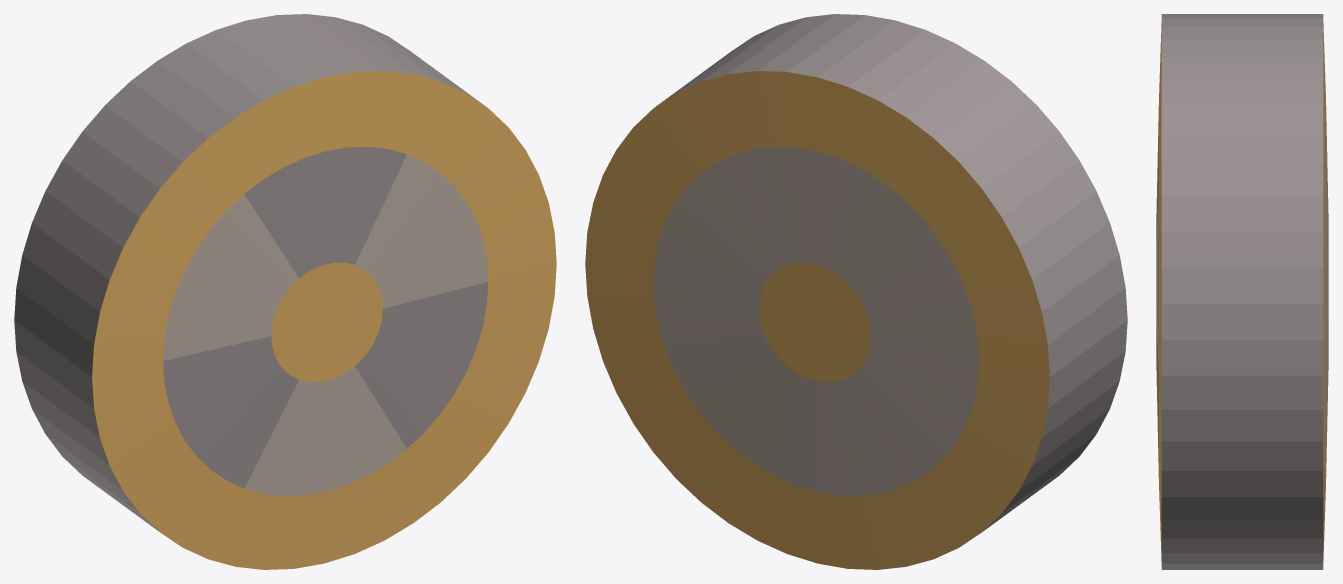
The model's file is Wheel_High.fbx.
3 renders of one model, left to right at view 1: azimuth 30°, elevation 25°; view 2: azimuth 150°, elevation 25°; view 3: azimuth 270°, elevation 25°, orthographic. The views are drawn at different scales.
Parts seen in each view (by area): view 1: SM_Wheel_High; view 2: SM_Wheel_High; view 3: SM_Wheel_High.
Boxes of the visible parts, x1,y1,x2,y2 form: SM_Wheel_High: (14,14,556,569); SM_Wheel_High: (585,14,1127,569); SM_Wheel_High: (1156,14,1328,569).
Bounding box in the file's own units: 200 × 62 × 200.
